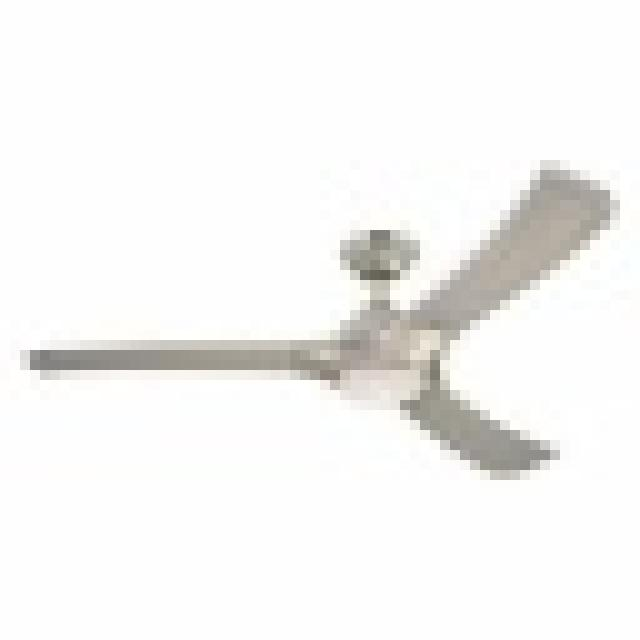Bulb: (18, 169, 616, 498)
